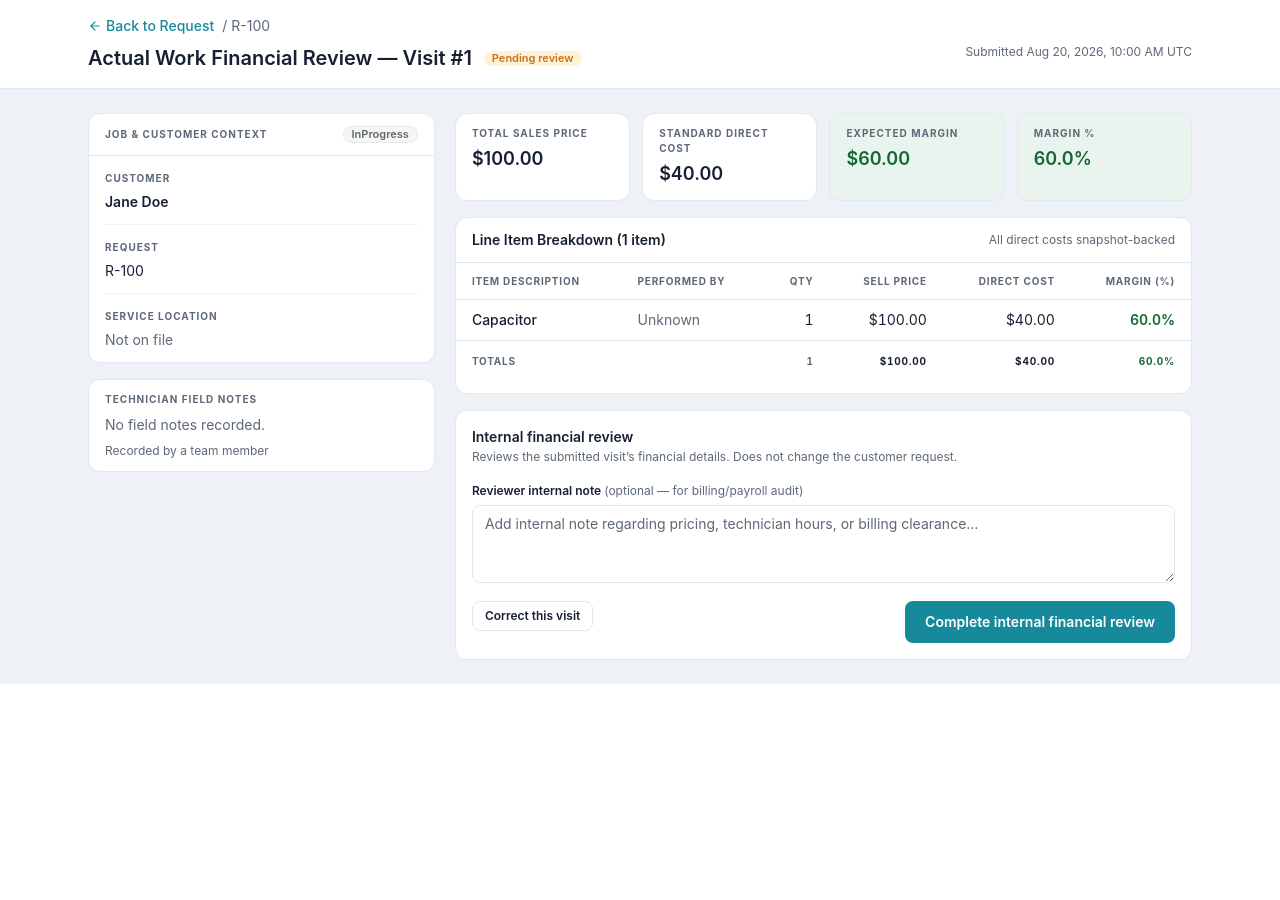
it: ActualWorkWorkspacePage — 4f-ii office region › surfaces a concurrency-reconcile outcome from the review mutation
Click the button "Complete internal financial review" at point(1040, 622), box left=905, top=601, right=1175, bottom=643
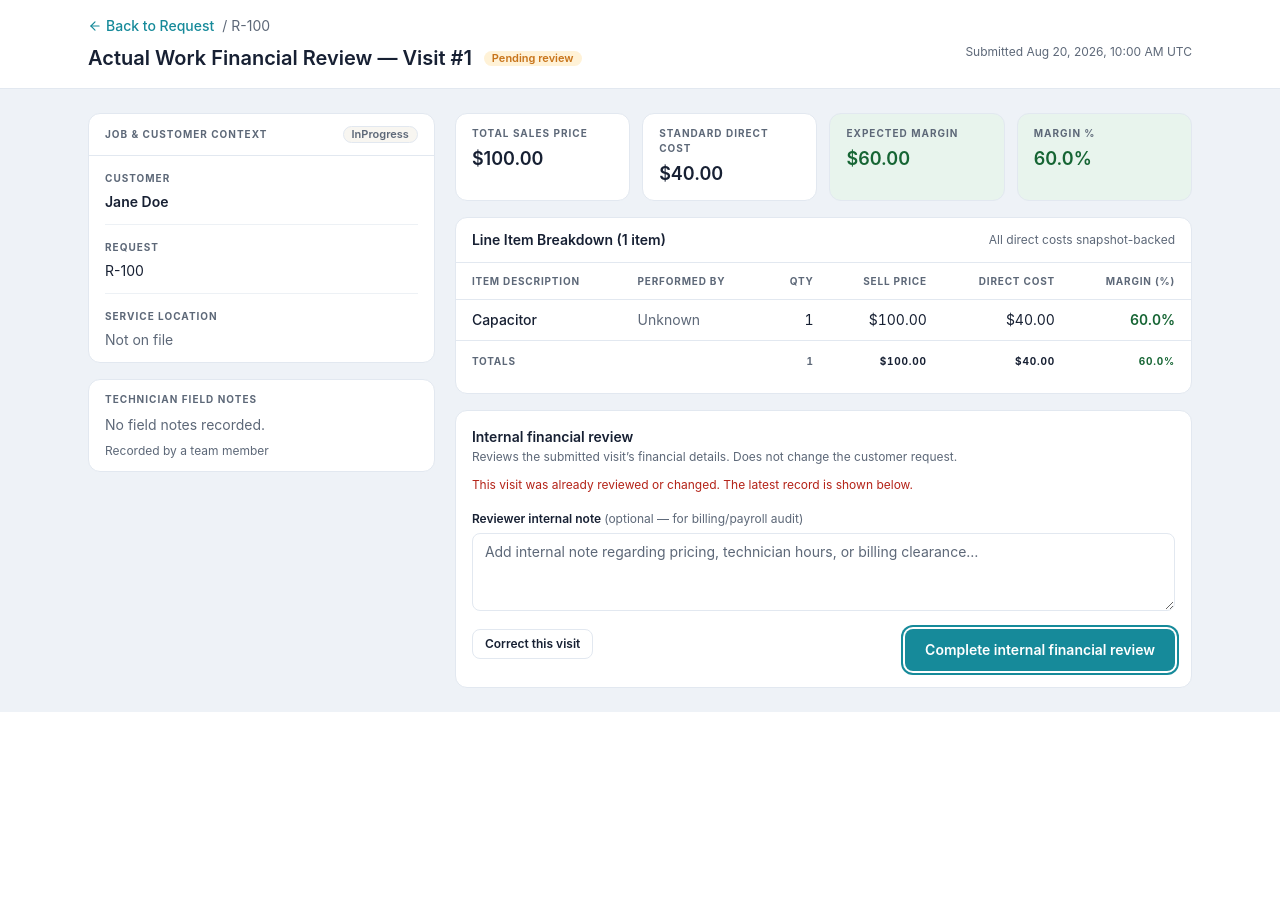
Now the text "This visit was already reviewed or changed. The latest record is shown below." is shown, box left=472, top=477, right=913, bottom=492
